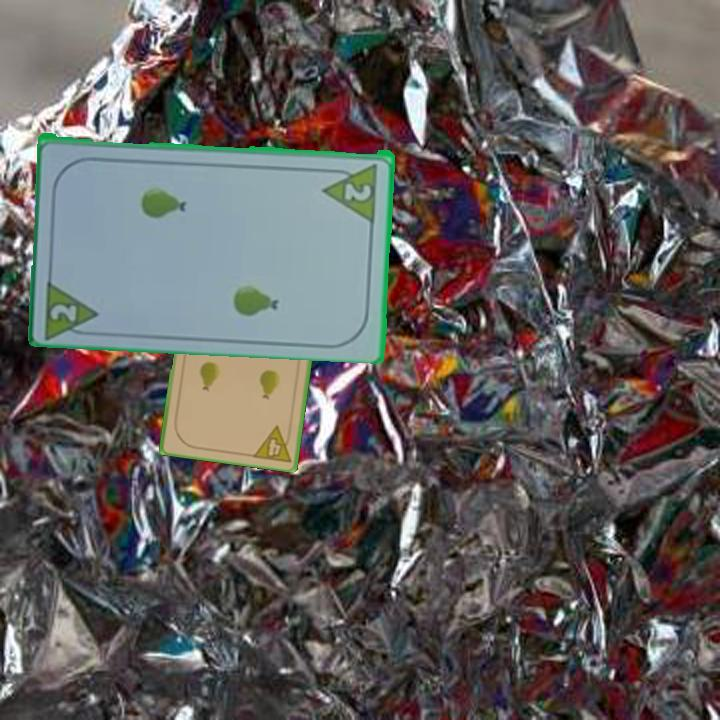2p: (41, 273, 103, 339), (341, 179, 375, 204)
4p: (249, 422, 295, 465)
